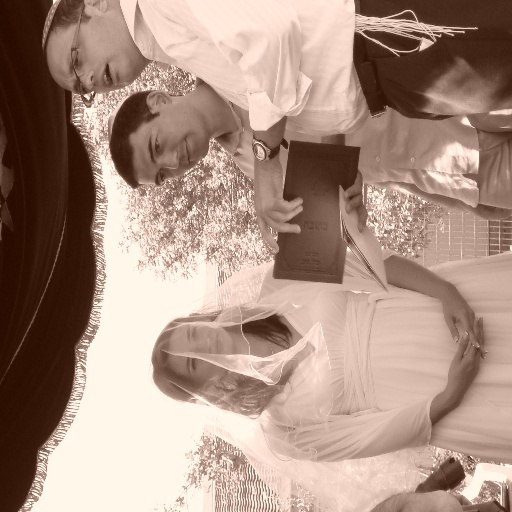hand: (253, 161, 303, 252), (449, 314, 485, 407), (442, 288, 488, 360), (342, 167, 368, 234)
